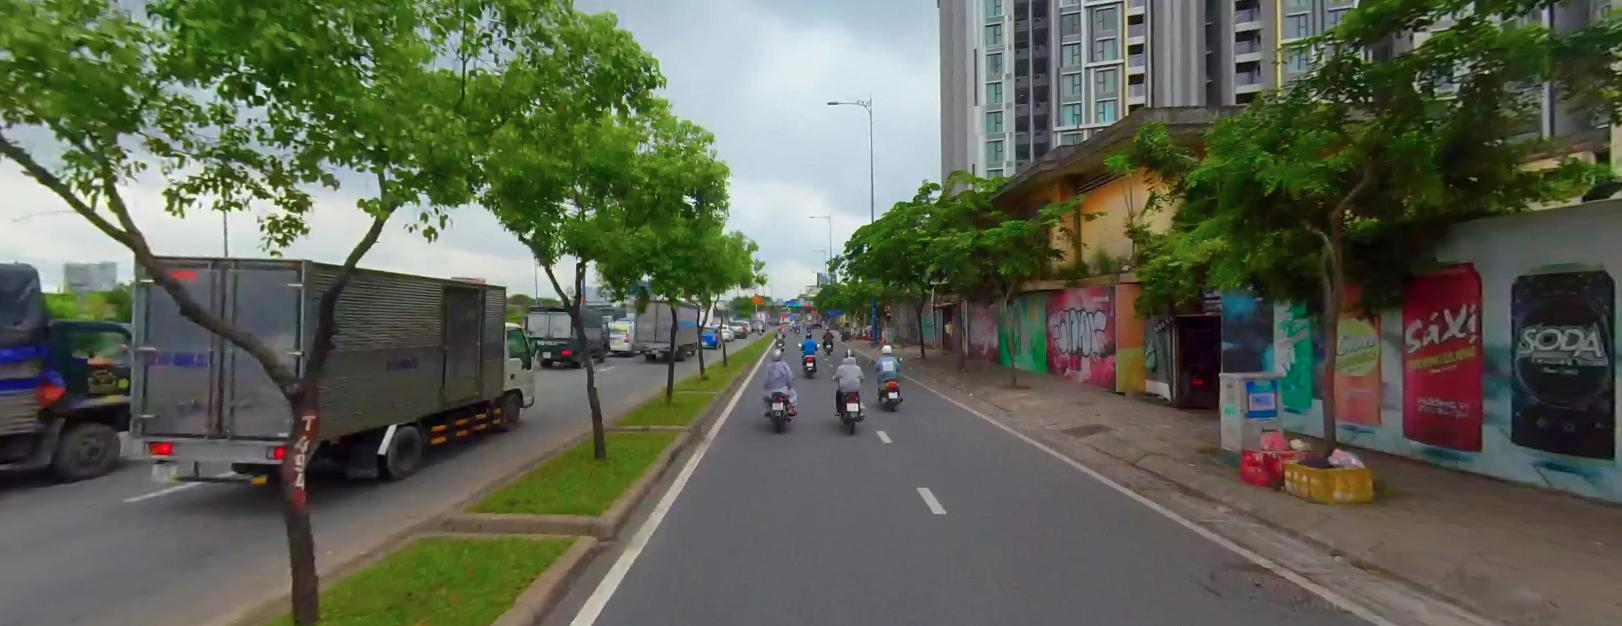Nguy hiem: (748, 291, 763, 302)
